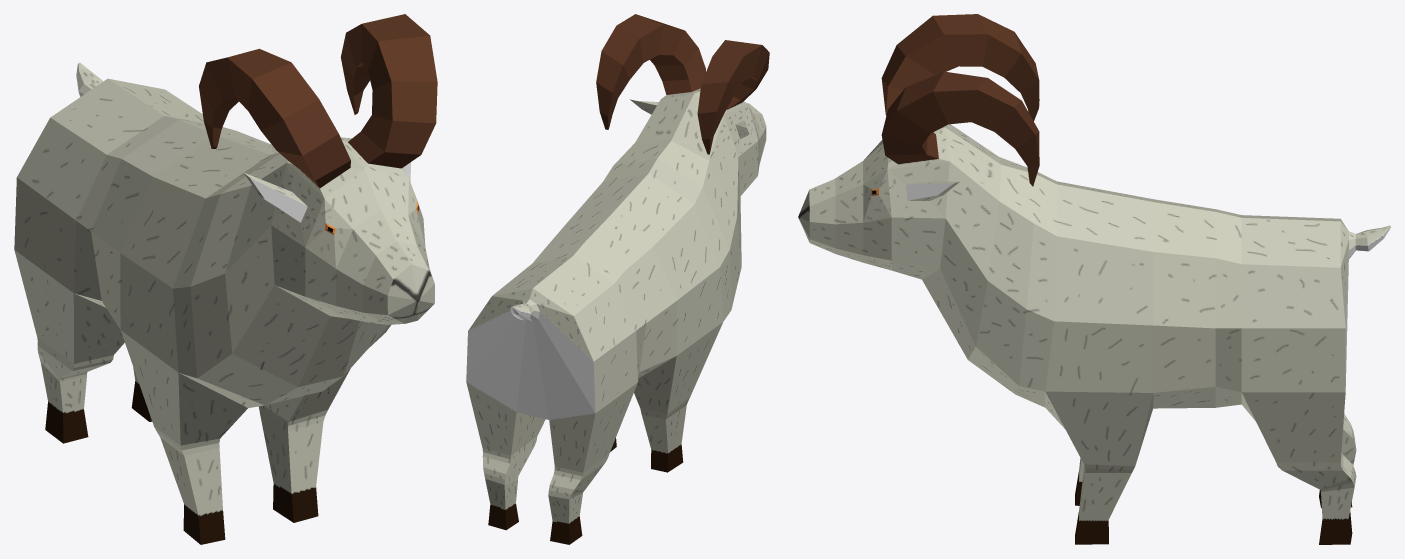
File: Ram.fbx
3 renders of one model, left to right at view 1: azimuth 30°, elevation 25°; view 2: azimuth 150°, elevation 25°; view 3: azimuth 270°, elevation 25°, orthographic. The views are drawn at different scales.
Visible parts, largest first — view 1: Cylinder; view 2: Cylinder; view 3: Cylinder.
Boxes of the visible parts, bbox=[...] form: Cylinder: bbox=[14, 14, 437, 544]; Cylinder: bbox=[466, 14, 769, 544]; Cylinder: bbox=[798, 14, 1390, 544].
Bounding box in the file's own units: 159 × 415 × 474.
Materials: 1 (1 with a texture image).
